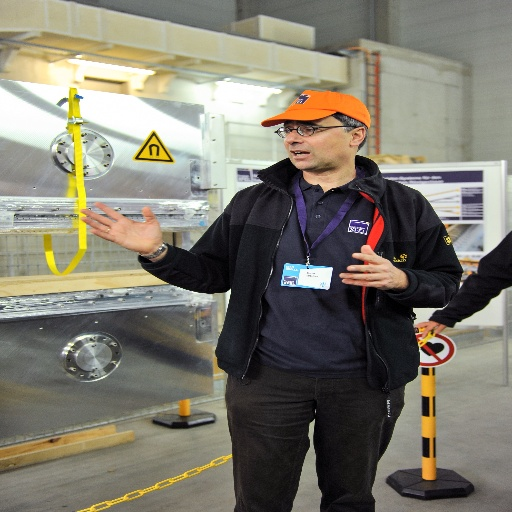hand: (89, 204, 174, 251), (339, 244, 400, 291), (414, 319, 447, 339)
